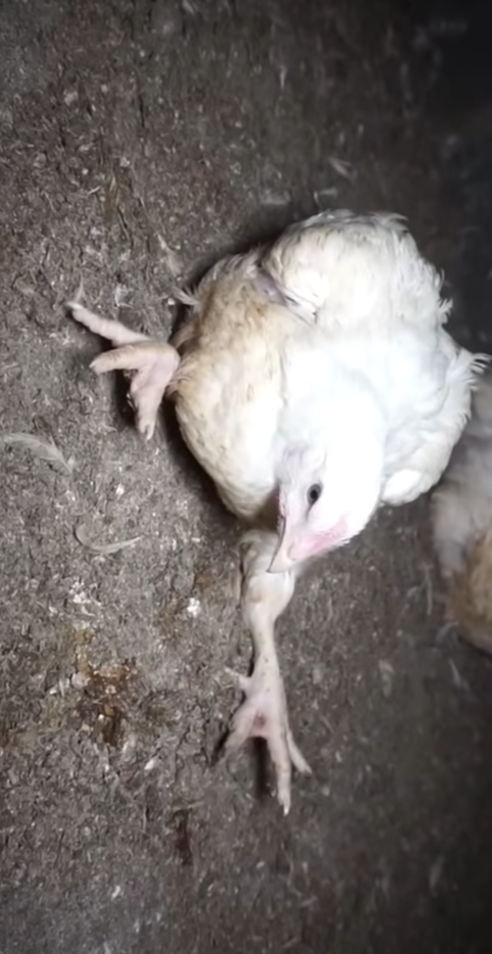Unhealthy: (67, 182, 477, 801)
